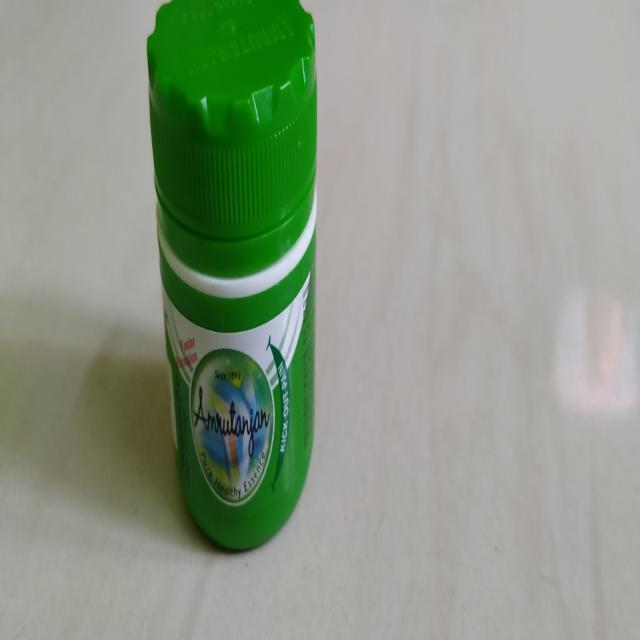eucalyptus oil: (139, 0, 324, 531)
